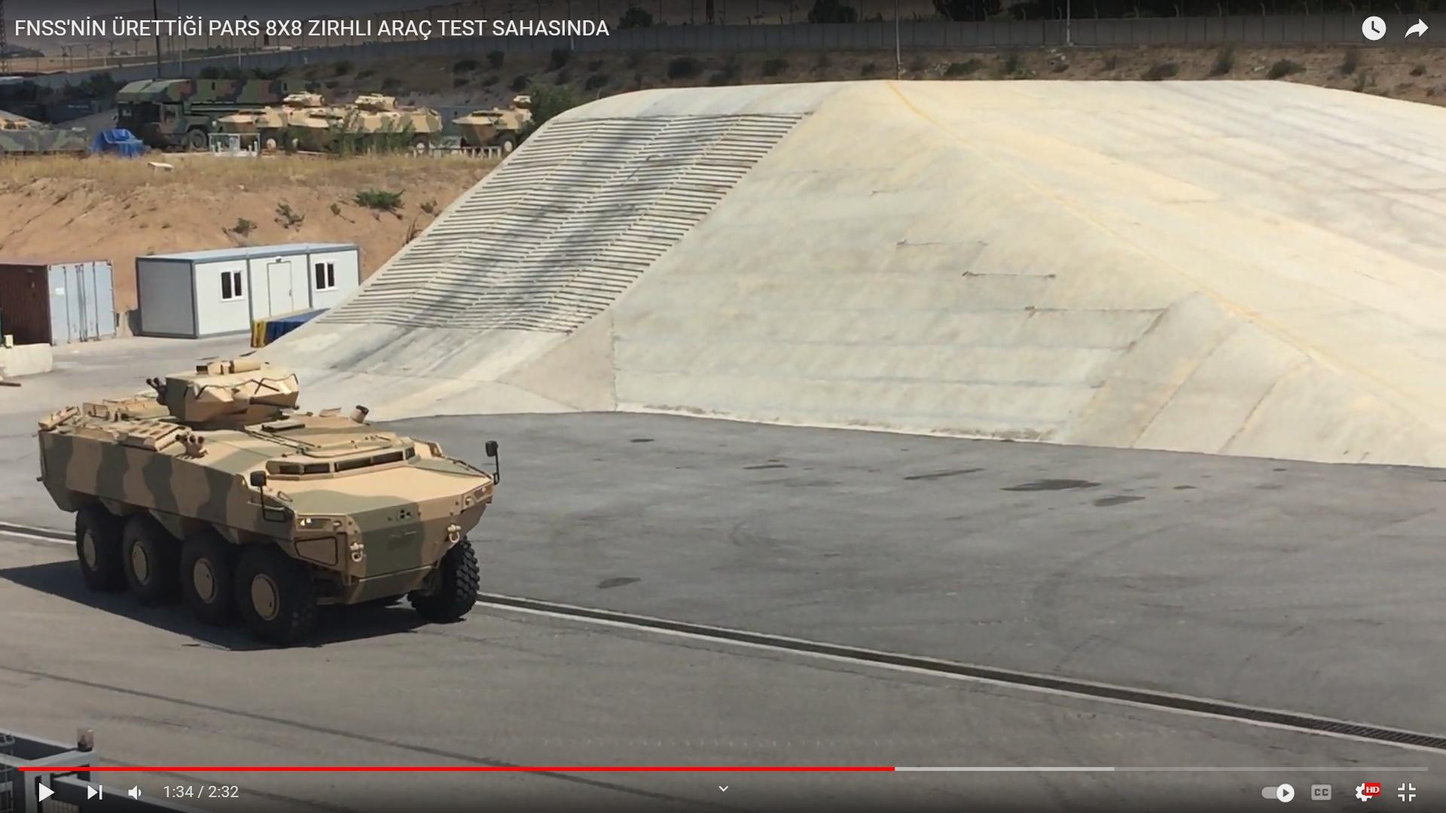armored_car: (34, 344, 501, 644)
